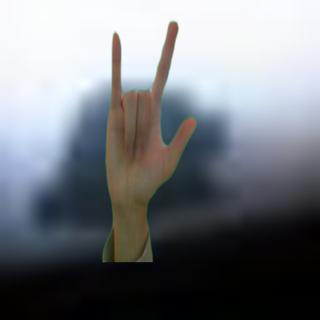ILY: (99, 18, 202, 212)
